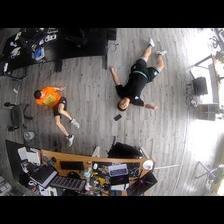fall: (109, 39, 167, 111), (34, 85, 82, 146)
